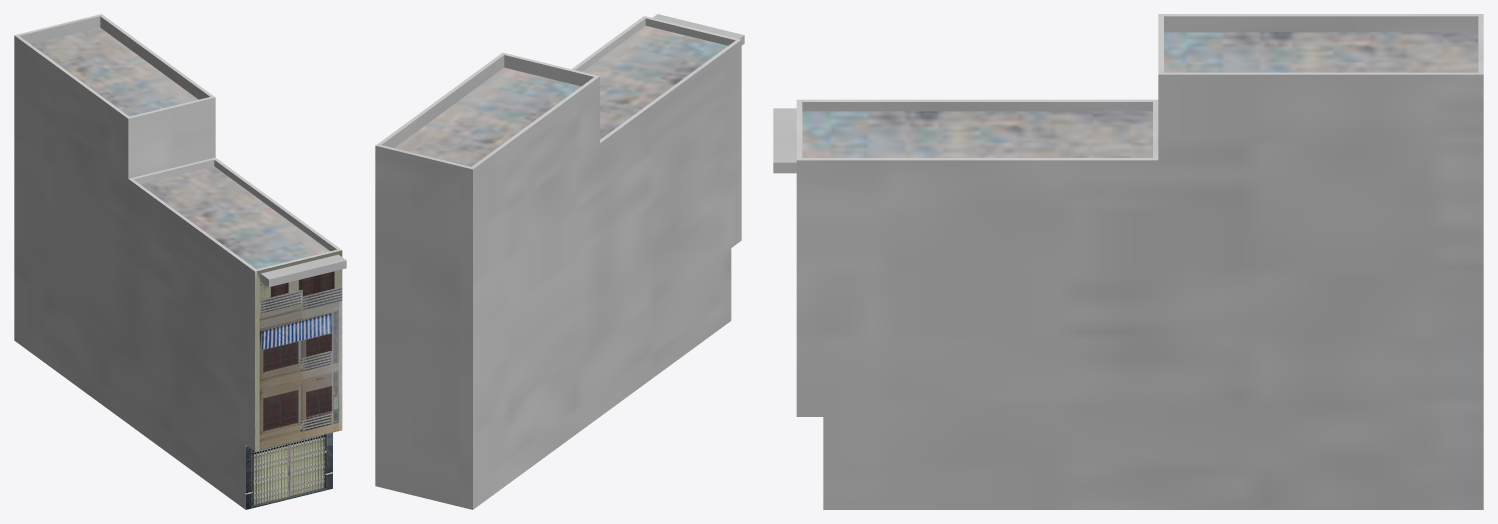
3 renders of one model, left to right at view 1: azimuth 30°, elevation 25°; view 2: azimuth 150°, elevation 25°; view 3: azimuth 270°, elevation 25°, orthographic. The views are drawn at different scales.
Visible parts, largest first — view 1: 5db00e8e68789d138cbebcf4.001; view 2: 5db00e8e68789d138cbebcf4.001; view 3: 5db00e8e68789d138cbebcf4.001.
Part boxes in pixels (x1=…): 5db00e8e68789d138cbebcf4.001: x1=14, y1=14, x2=346, y2=509; 5db00e8e68789d138cbebcf4.001: x1=375, y1=14, x2=744, y2=509; 5db00e8e68789d138cbebcf4.001: x1=773, y1=14, x2=1483, y2=509.
Size of the model in its own units: 5.33 by 17.8 by 26.33.
1 material, 1 textured.
